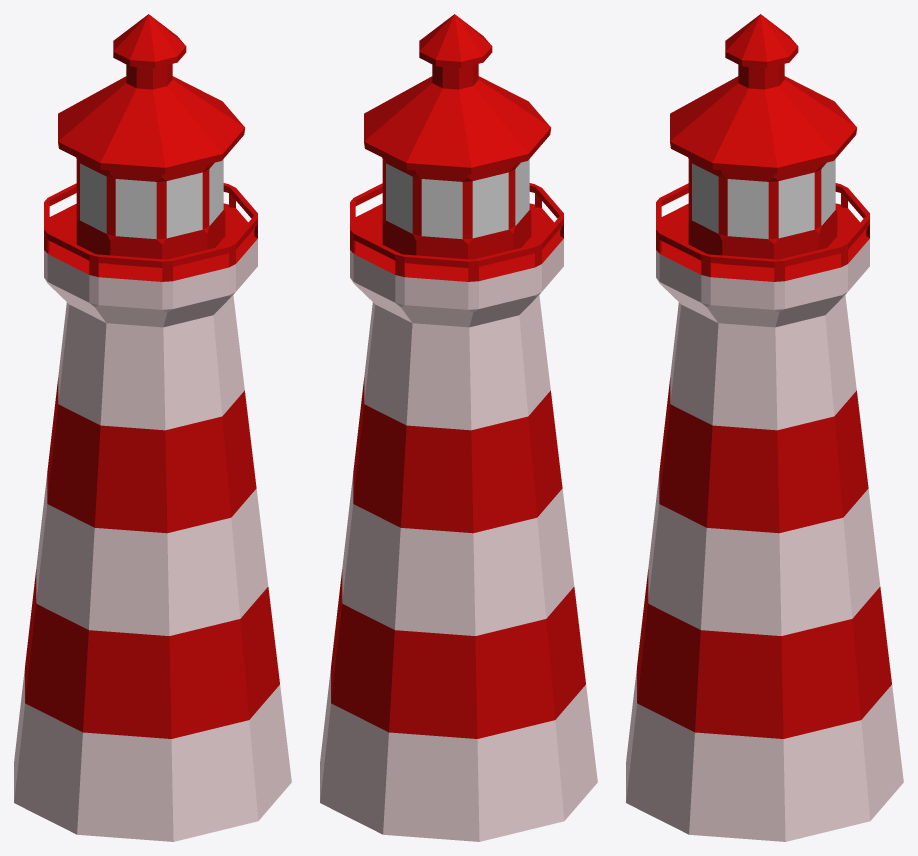
The model's file is LightHouse.fbx.
3 views of the same model, side by side, from view 1: azimuth 30°, elevation 25°; view 2: azimuth 150°, elevation 25°; view 3: azimuth 270°, elevation 25° (orthographic).
Visible parts, largest first — view 1: Cylinder; view 2: Cylinder; view 3: Cylinder.
Part boxes in pixels (left/top/right/bottom): Cylinder: left=14, top=14, right=291, bottom=841; Cylinder: left=320, top=14, right=597, bottom=841; Cylinder: left=626, top=14, right=903, bottom=841.
Size of the model in its own units: 435 by 1307 by 428.
